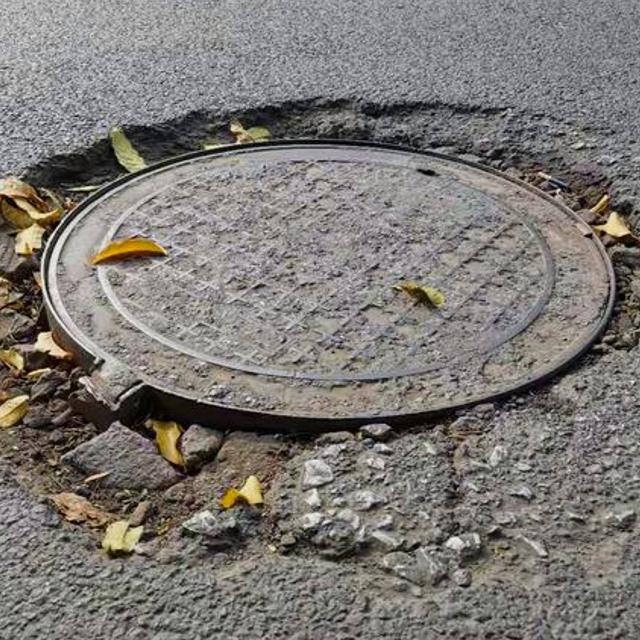circle: (0, 95, 640, 567)
